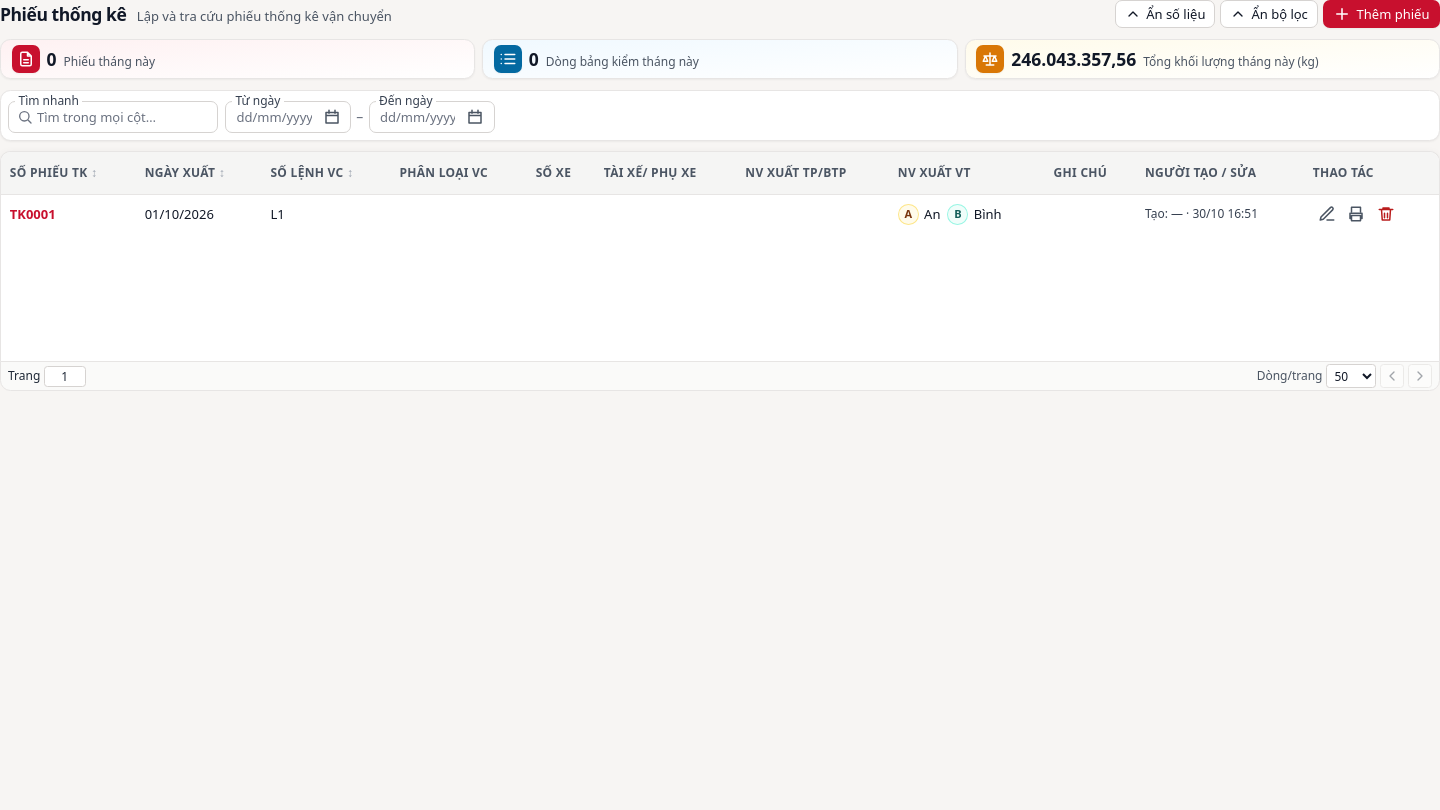
Scenario: PlansPage › người tạo trong 24 giờ được xóa; server xóa 0 dòng (RLS) → toast lỗi quyền, không báo thành công
Click the button with test id "delete-TK0001" at (1386, 214), box [1372,200,1400,228]
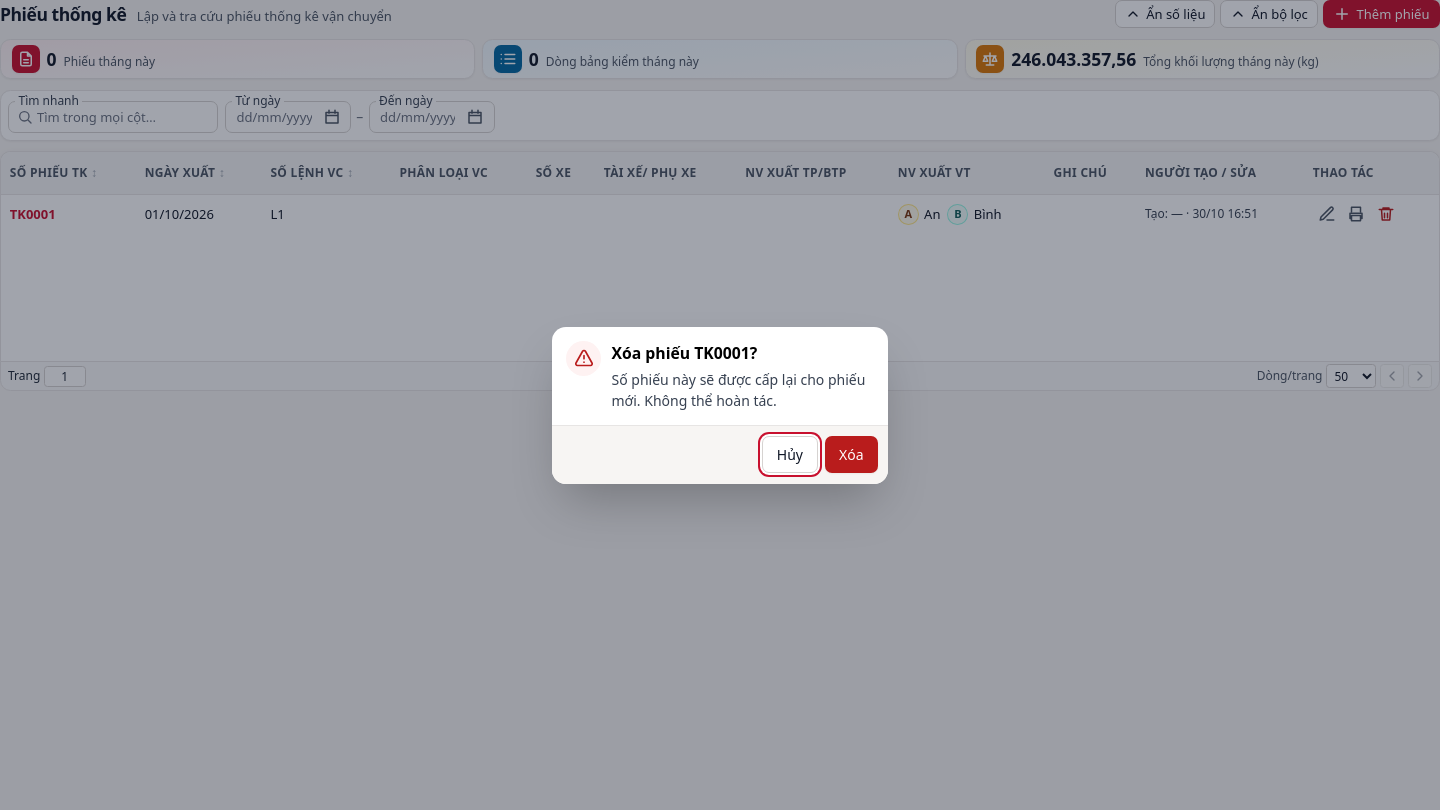
Click the button with test id "confirm-ok" at (851, 454), box [825,436,878,473]
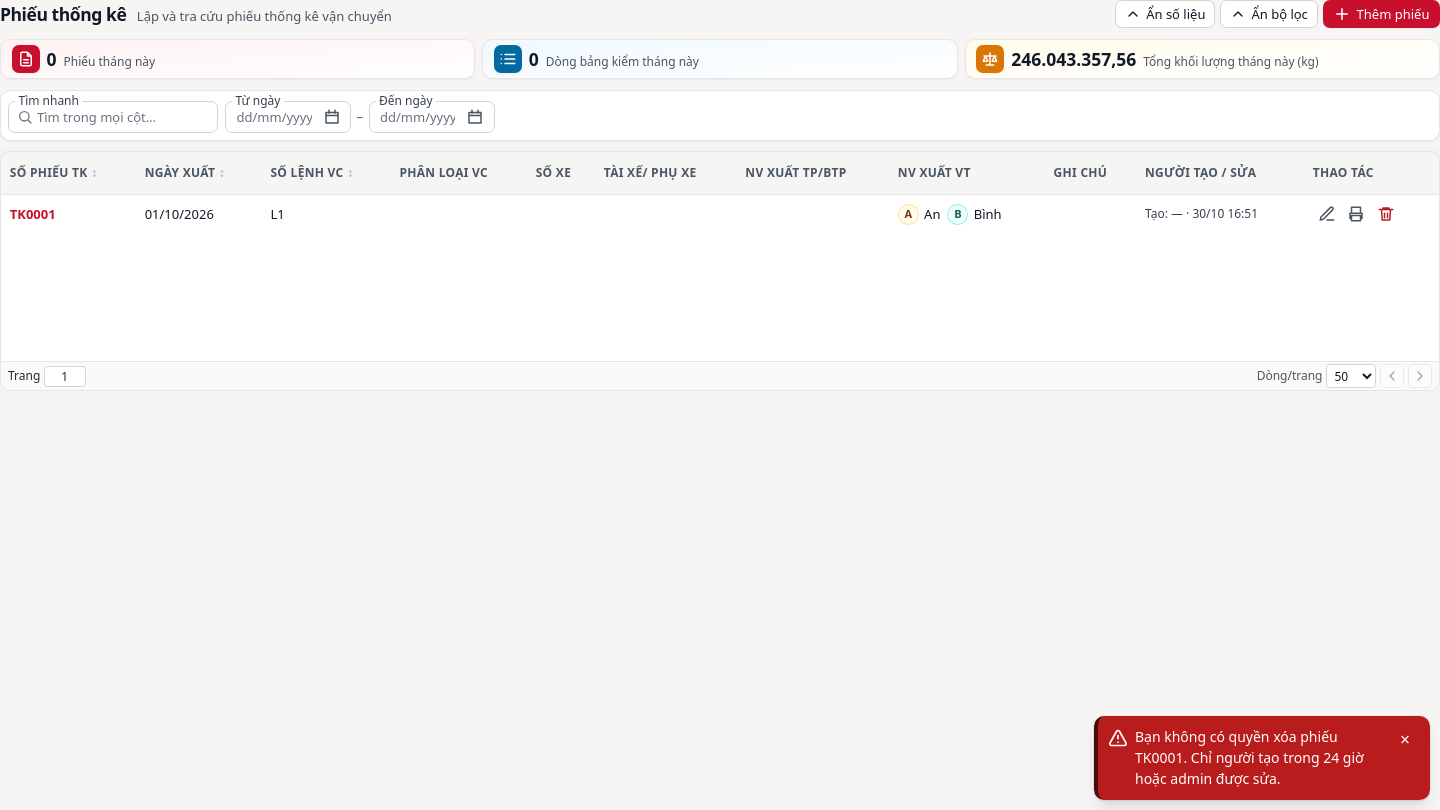
Expected: the message with test id "toast-error" shows "Bạn không có quyền xóa phiếu TK0001", [1135,727,1364,788]
